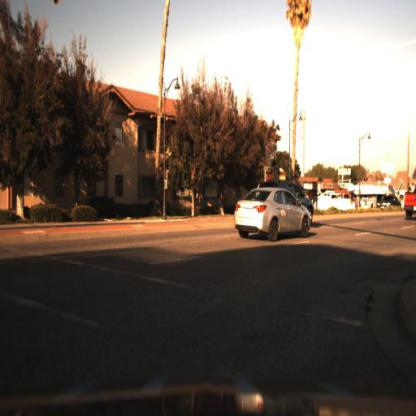car: (233, 188, 312, 240), (258, 175, 316, 222)
